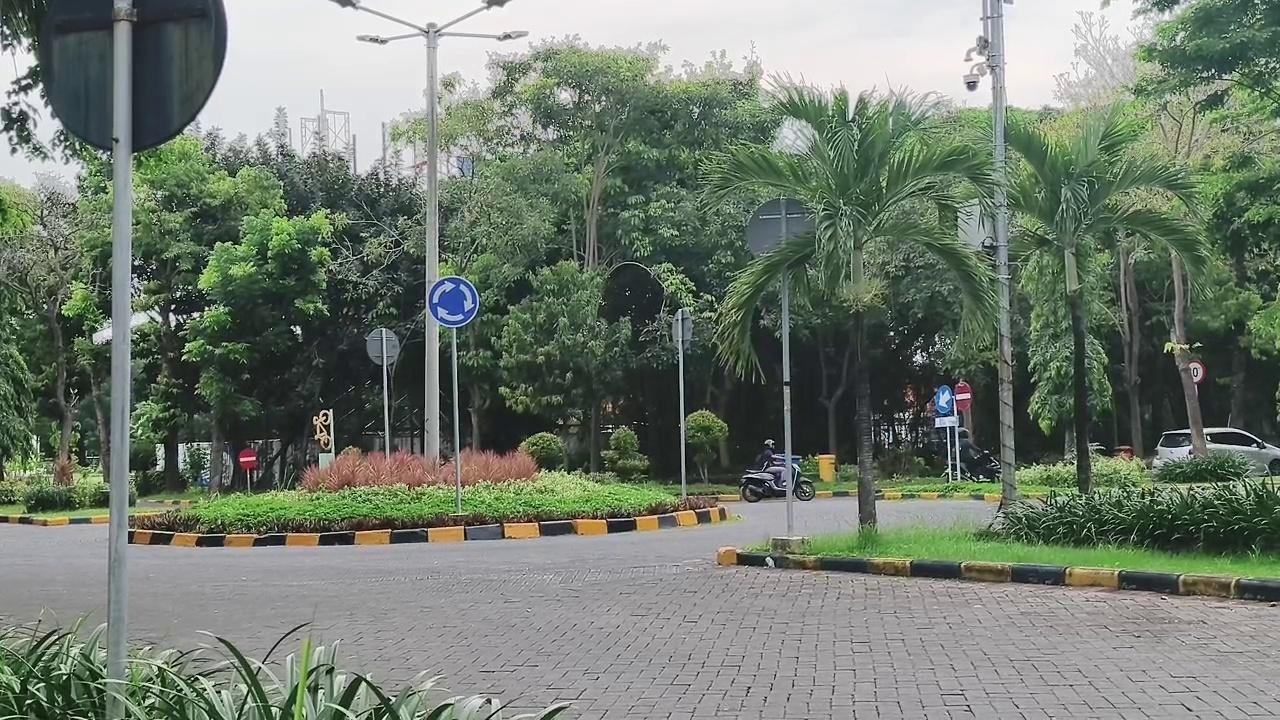Motor: (740, 454, 787, 502), (959, 451, 1001, 481)
